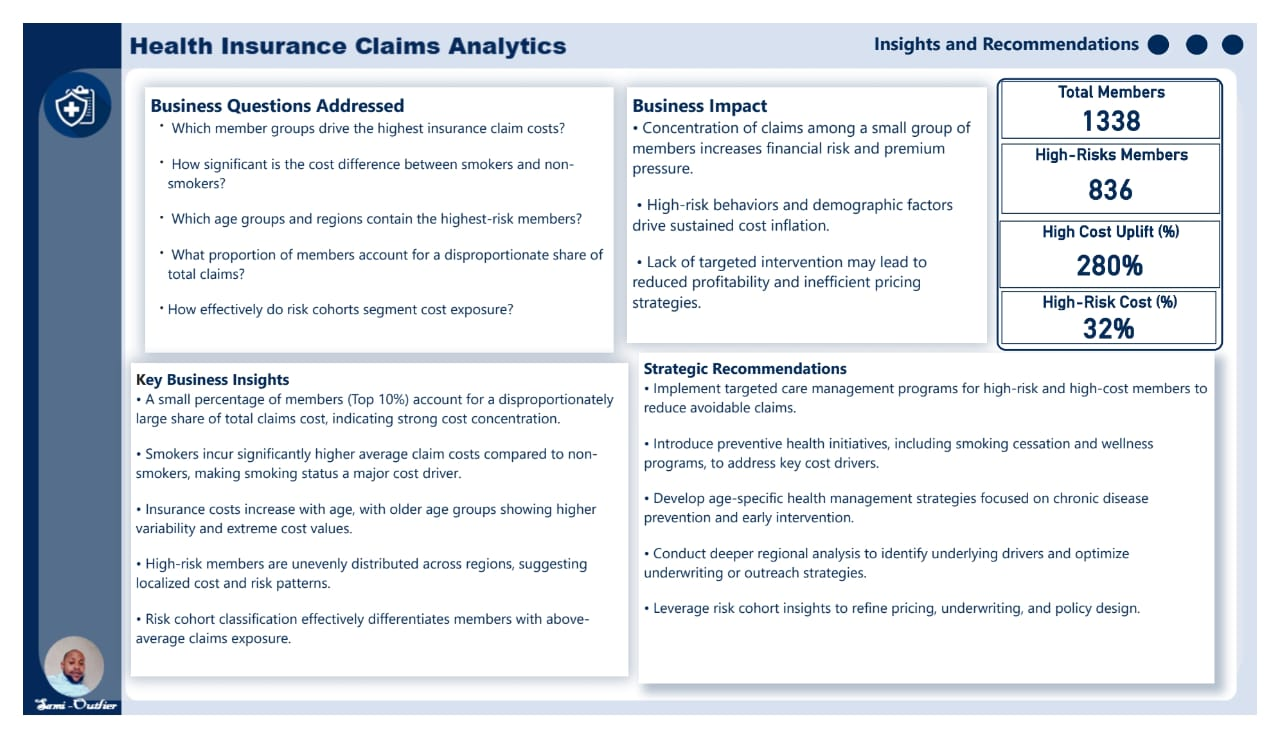

What the dashboard file says about the page in this screenshot:
{"tool":"powerbi","page":{"name":"Business Recommendation","canvas":[1280,720],"ordinal":3},"visuals":[{"type":"textbox","box":[126.7,66.7,486.7,275],"z":0},{"type":"textbox","box":[112.2,353,515.6,325.3],"z":1000},{"type":"textbox","box":[626.7,66.7,373.3,265],"z":2000},{"type":"textbox","box":[639.2,341.6,596.9,343.2],"z":3000},{"type":"shape","box":[1010,56.7,235,283.3],"z":4000},{"type":"card","title":"Total Members","fields":{"Values":["insurance.Member Count"]},"box":[1015,60,226.7,60],"z":5000},{"type":"card","title":"High-Risks Members","fields":{"Values":["insurance.High-Risk Members"]},"box":[1015,125,226.7,73.3],"z":6000},{"type":"card","title":"High Cost Uplift (%)","fields":{"Values":["insurance.Smoker Cost Uplift %"]},"box":[1013.3,205,228.3,70],"z":7000},{"type":"card","title":"High-Risk Cost (%)","fields":{"Values":["insurance.High Risk Cost %"]},"box":[1015,278.3,223.3,55],"z":8000},{"type":"shape","box":[1198.3,3.3,40,38.3],"z":9000},{"type":"shape","box":[1158.3,3.3,40,38.3],"z":10000},{"type":"shape","box":[1235,3.3,40,38.3],"z":11000},{"type":"textbox","box":[878.3,3.3,291.7,41.7],"z":13000}]}

Visuals, with their boxes in screenshot pixels (x1, y1, x2, y2), scaled from the page's 1280x720 canvas onto the 1280x740 screenshot:
textbox: [127,69,613,351]
textbox: [112,363,628,697]
textbox: [627,69,1000,341]
textbox: [639,351,1236,704]
shape: [1010,58,1245,349]
"Total Members" card: [1015,62,1242,123]
"High-Risks Members" card: [1015,128,1242,204]
"High Cost Uplift (%)" card: [1013,211,1242,283]
"High-Risk Cost (%)" card: [1015,286,1238,343]
shape: [1198,3,1238,43]
shape: [1158,3,1198,43]
shape: [1235,3,1275,43]
textbox: [878,3,1170,46]
